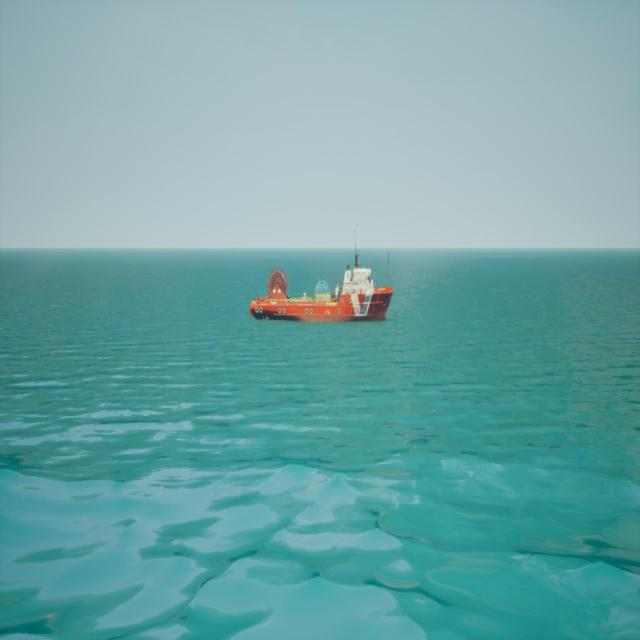tug boat: (250, 247, 395, 324)
